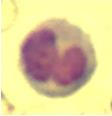monocyte: (18, 16, 101, 97)
